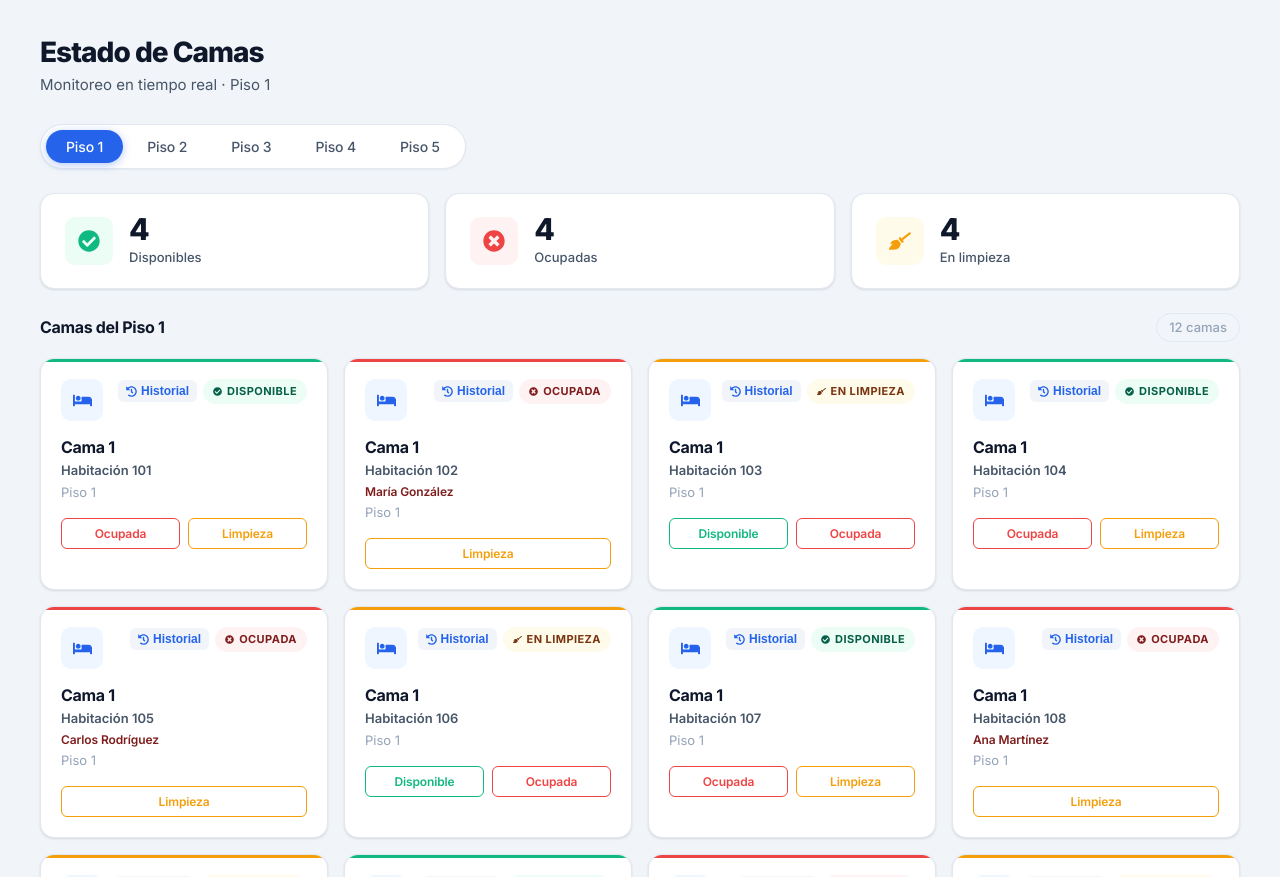
Scenario: Componente Beds › Caso 3: al hacer clic en otro piso, el botón activo y el encabezado de sección se actualizan
The image size is (1280, 877).
Click the button "Piso 3": (251, 147) [211,130,292,163]
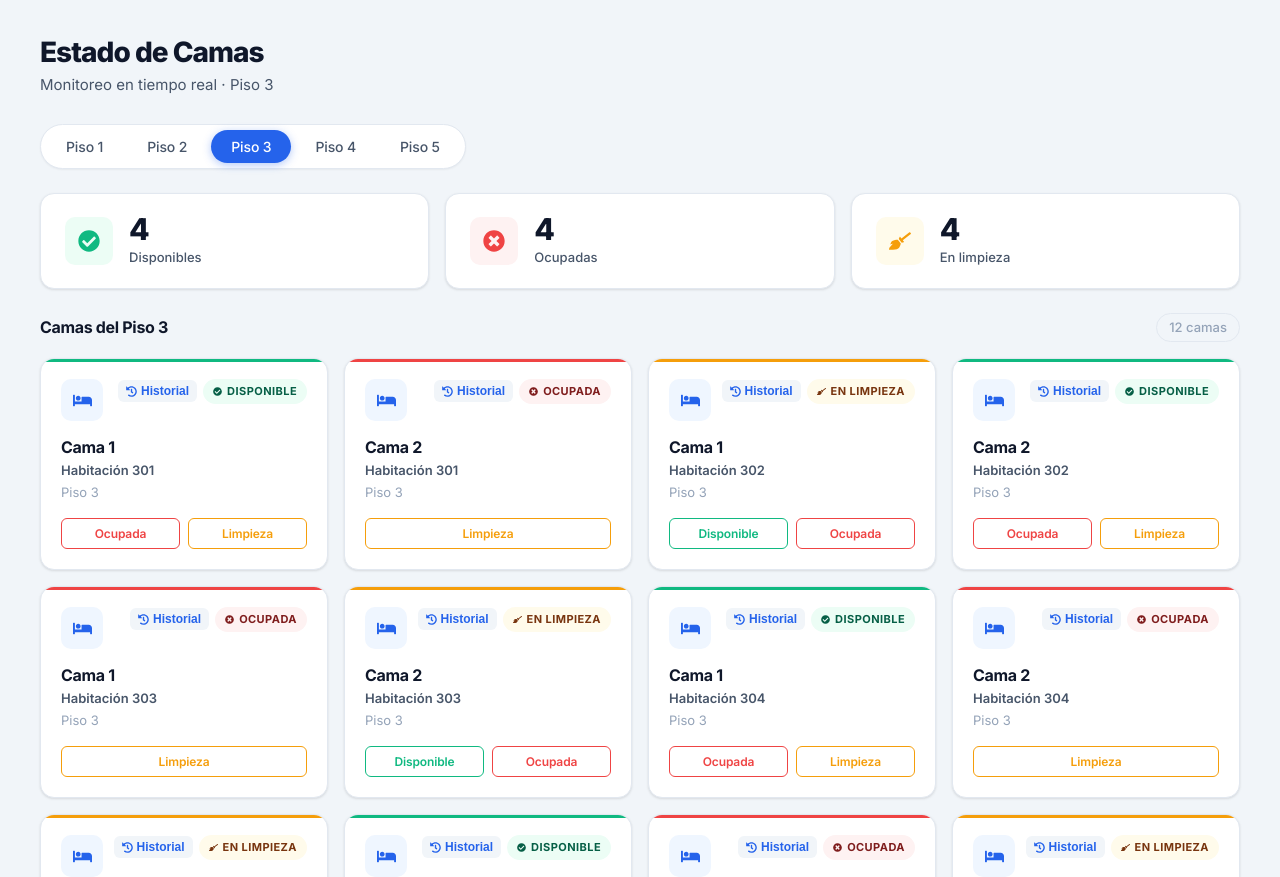
Expected: the heading "Camas del Piso 3" is shown, [40,315,168,339]
